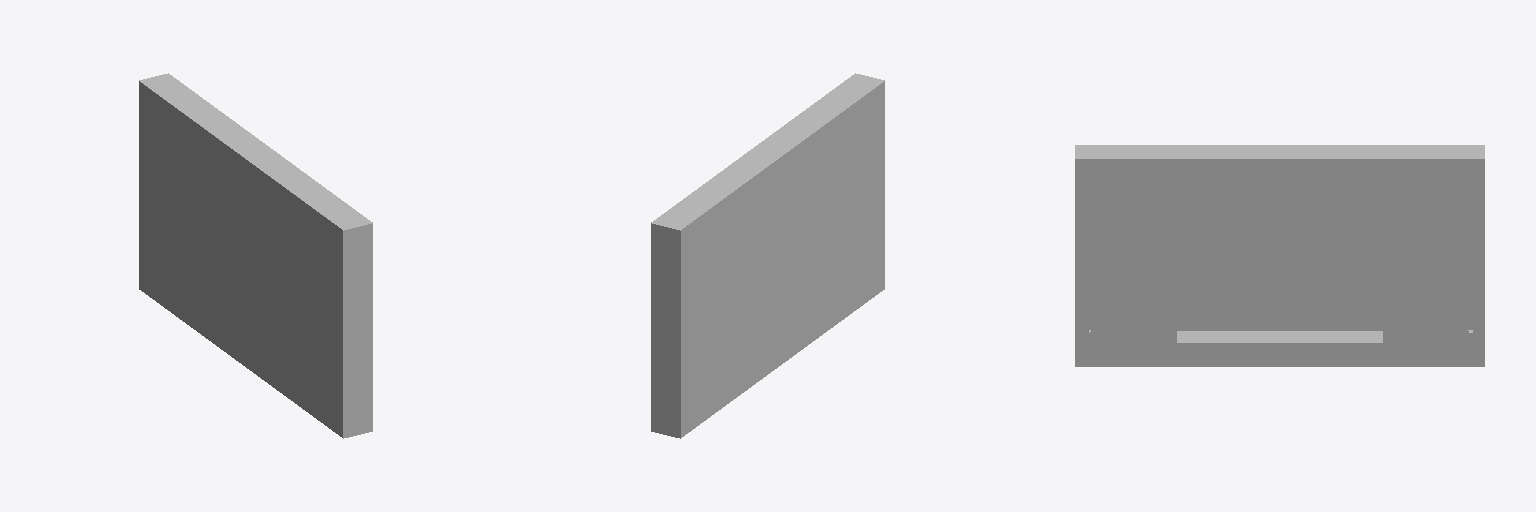
File: baseTop.obj
3 views of the same model, side by side, from view 1: azimuth 30°, elevation 25°; view 2: azimuth 150°, elevation 25°; view 3: azimuth 270°, elevation 25° (orthographic).
Visible parts, largest first — view 1: Cube.009; view 2: Cube.009; view 3: Cube.009.
Boxes of the visible parts, x1,y1,x2,y2 form: Cube.009: [139, 73, 372, 438]; Cube.009: [651, 73, 884, 438]; Cube.009: [1075, 145, 1484, 366].
Size of the model in its own units: 2 by 13.24 by 23.61.